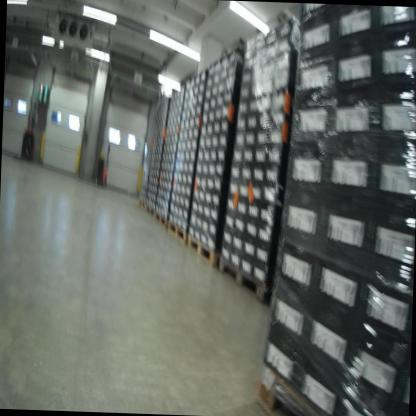pallet: (256, 364, 345, 416), (216, 253, 269, 303), (183, 229, 222, 270), (166, 217, 189, 248), (152, 210, 168, 233), (144, 204, 154, 218), (138, 199, 147, 213)
pallet_truck: (71, 135, 116, 191), (10, 108, 40, 168)
